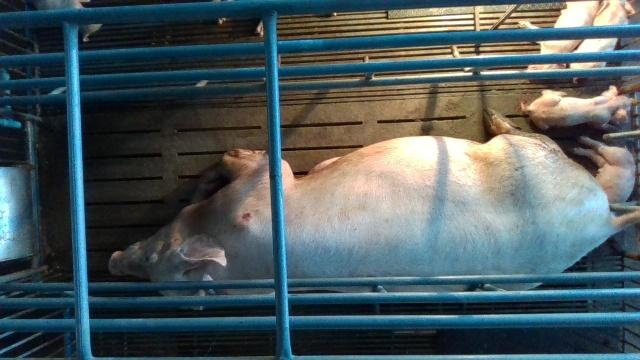piglet: (519, 1, 599, 70), (521, 85, 631, 132), (568, 0, 634, 69), (575, 136, 635, 204), (32, 0, 103, 42)
sow-sleep: (106, 106, 640, 309)
